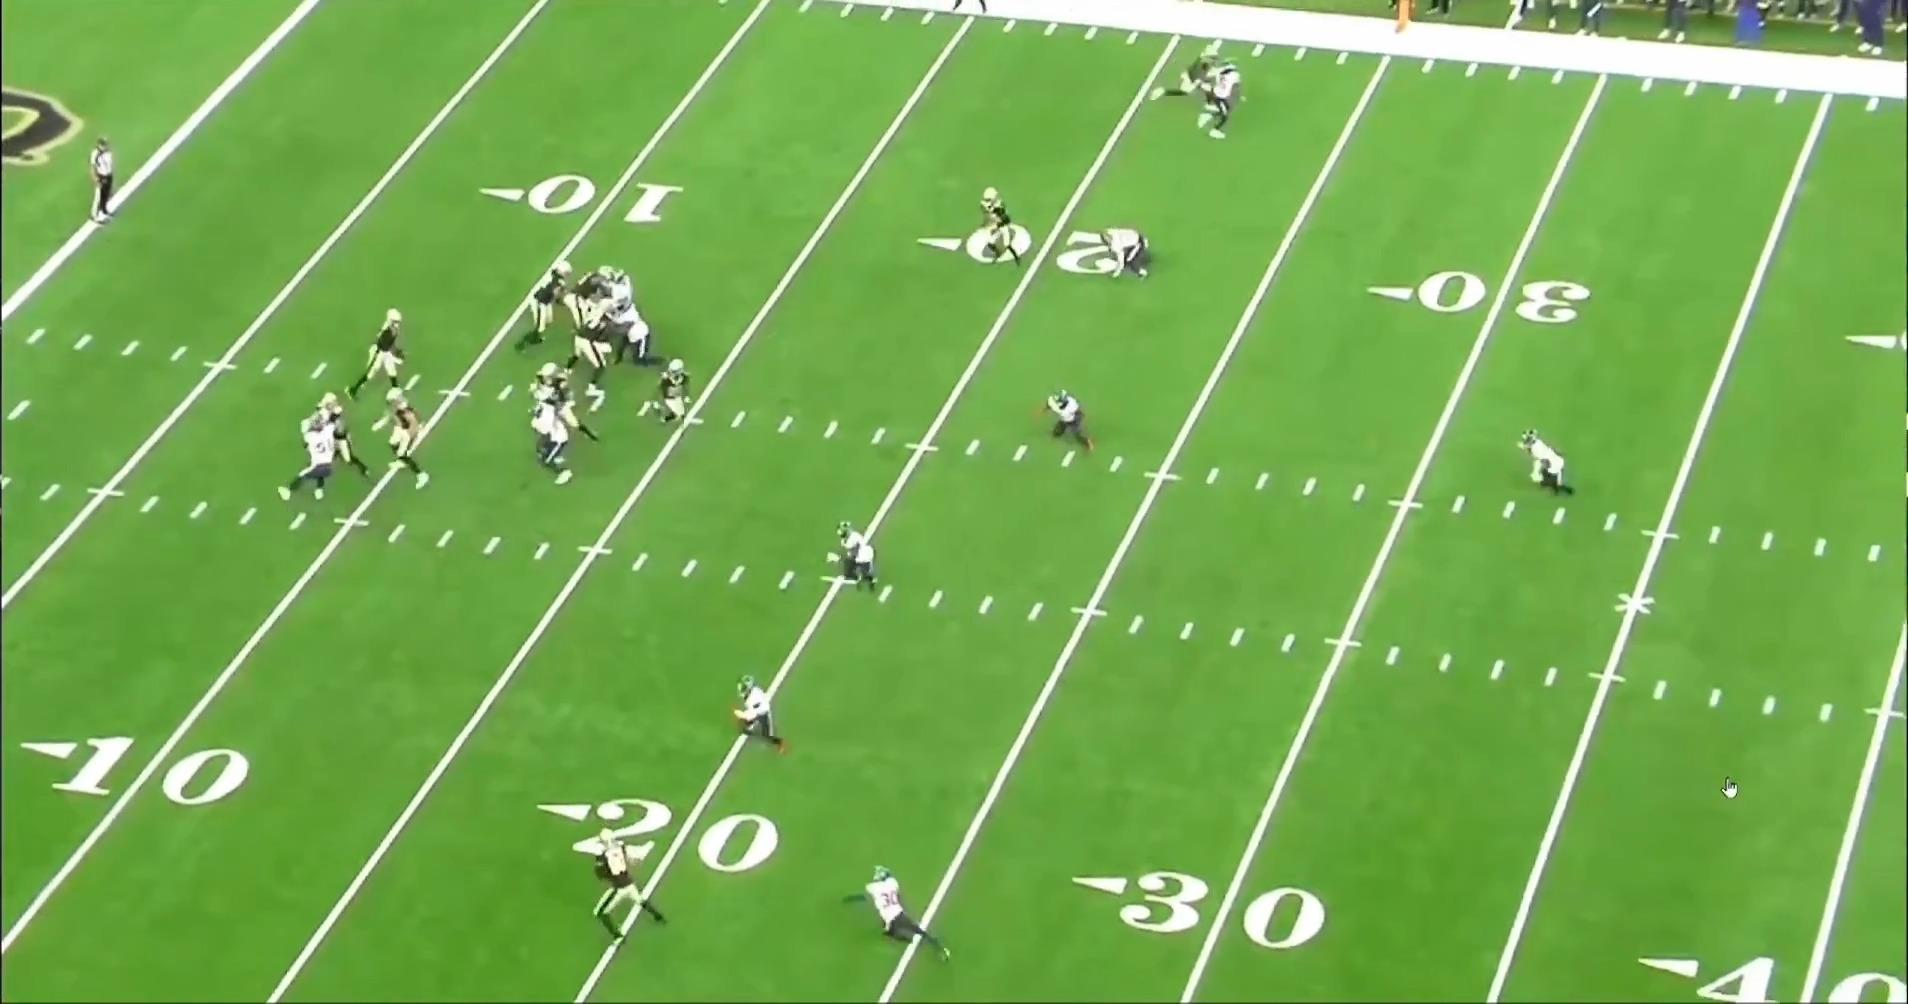player: (593, 832, 676, 945), (848, 867, 944, 964), (294, 389, 367, 481), (377, 389, 440, 495), (508, 258, 575, 356), (347, 300, 412, 400), (552, 300, 614, 402), (1145, 45, 1221, 126), (275, 413, 337, 508), (528, 360, 598, 443), (732, 673, 794, 757), (639, 357, 704, 433), (1514, 427, 1576, 506), (823, 521, 882, 601), (601, 294, 664, 368), (531, 393, 578, 488), (1045, 386, 1105, 457), (1200, 60, 1248, 146), (972, 187, 1019, 271), (562, 265, 615, 334), (1098, 225, 1155, 282), (596, 267, 637, 306)
ref: (83, 130, 119, 229), (948, 0, 996, 18)
